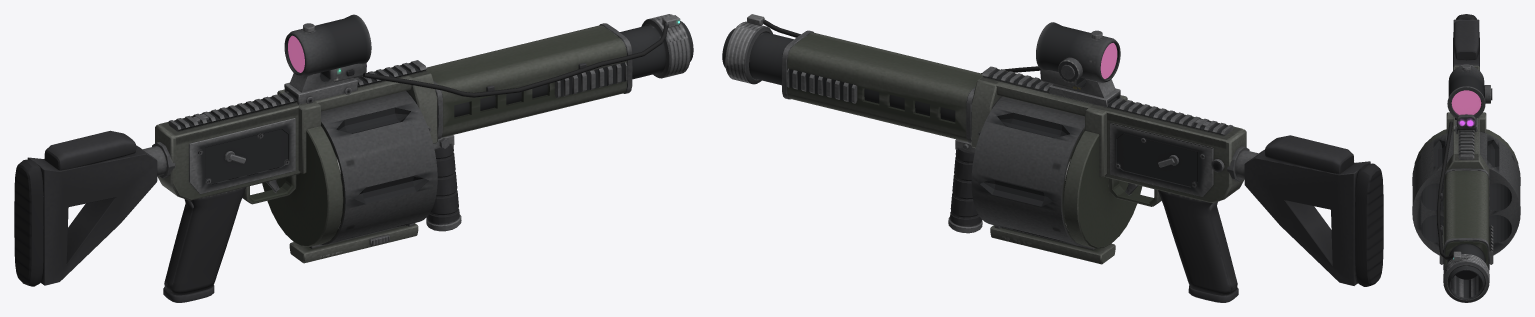
The picture shows the model from 3 angles, left to right: view 1: azimuth 30°, elevation 25°; view 2: azimuth 150°, elevation 25°; view 3: azimuth 270°, elevation 25°; orthographic projection. The views are drawn at different scales.
Parts seen in each view (by area): view 1: body, stock, cylinder, lens; view 2: body, stock, cylinder, lens; view 3: body, cylinder, stock, lens.
Part boxes in pixels (x1,y1,x2,y2): body: (155,14,693,302); stock: (14,130,175,286); cylinder: (320,91,437,244); lens: (288,35,304,72); body: (722,14,1246,302); stock: (1227,135,1383,286); cylinder: (971,96,1085,246); lens: (1100,43,1117,78); body: (1414,64,1518,302); cylinder: (1412,131,1520,255); stock: (1453,14,1479,70); lens: (1451,90,1481,114).
Bounding box in the file's own units: 0.76 × 0.2632 × 0.143.
1 material, 1 textured.
